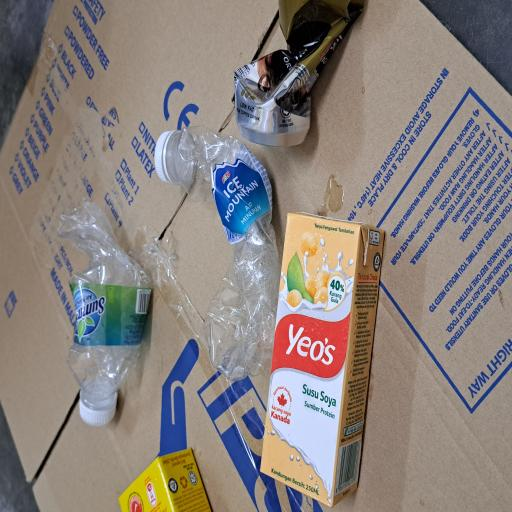can: (274, 310, 384, 486)
cardboard: (0, 0, 383, 512)
drink carton: (6, 346, 223, 512), (0, 154, 48, 292)
plastic bottle: (99, 209, 288, 367), (66, 82, 237, 204)
plastic bottle cap: (66, 103, 97, 161), (246, 209, 288, 239)
